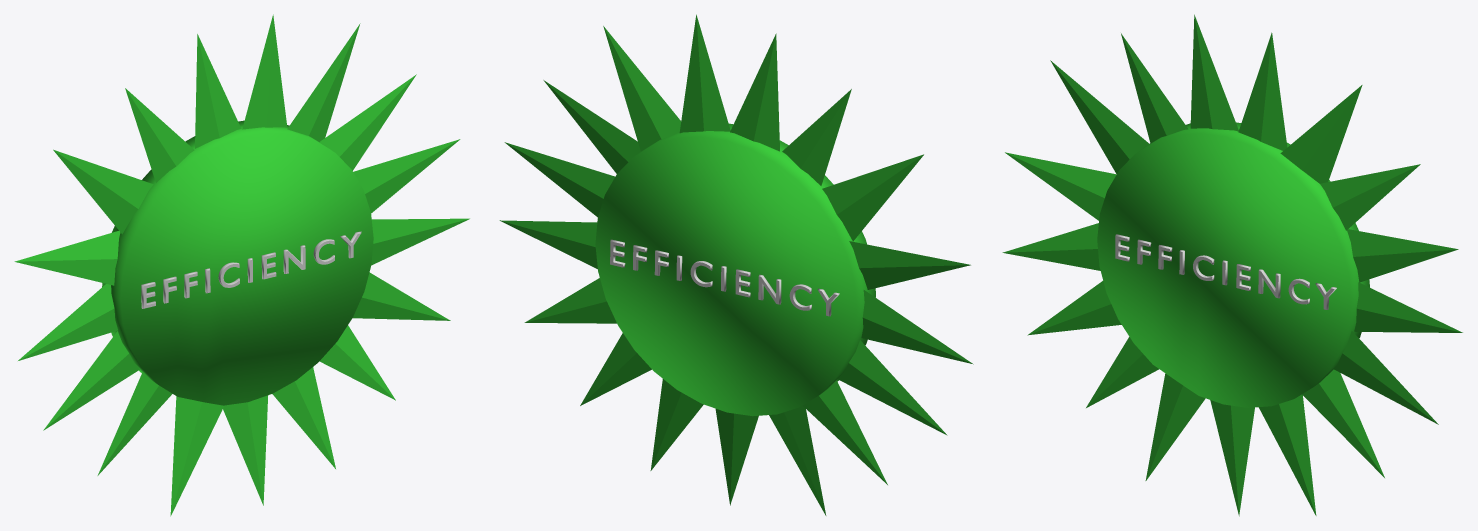
File: efficiencysparkgreenmerge3.glb
The picture shows the model from 3 angles, left to right: view 1: azimuth 30°, elevation 25°; view 2: azimuth 150°, elevation 25°; view 3: azimuth 330°, elevation 25°; orthographic projection. The views are drawn at different scales.
Parts seen in each view (by area): view 1: Circle, Efficiency Spark; view 2: Circle, Efficiency Spark.001; view 3: Circle, Efficiency Spark.
Part boxes in pixels (x1,y1,x2,y2): Circle: (14,14,469,516); Efficiency Spark: (141,231,361,308); Circle: (499,14,973,515); Efficiency Spark.001: (610,239,839,316); Circle: (1002,14,1462,516); Efficiency Spark: (1115,234,1336,309).
Size of the model in its own units: 15.47 by 15.49 by 1.5.
